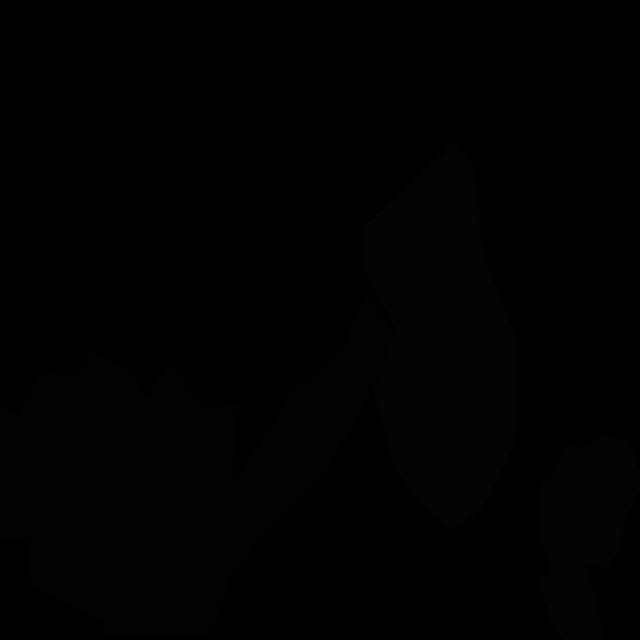cardboard: (0, 294, 395, 635)
soft_plastic: (361, 143, 516, 531), (538, 435, 640, 640)
